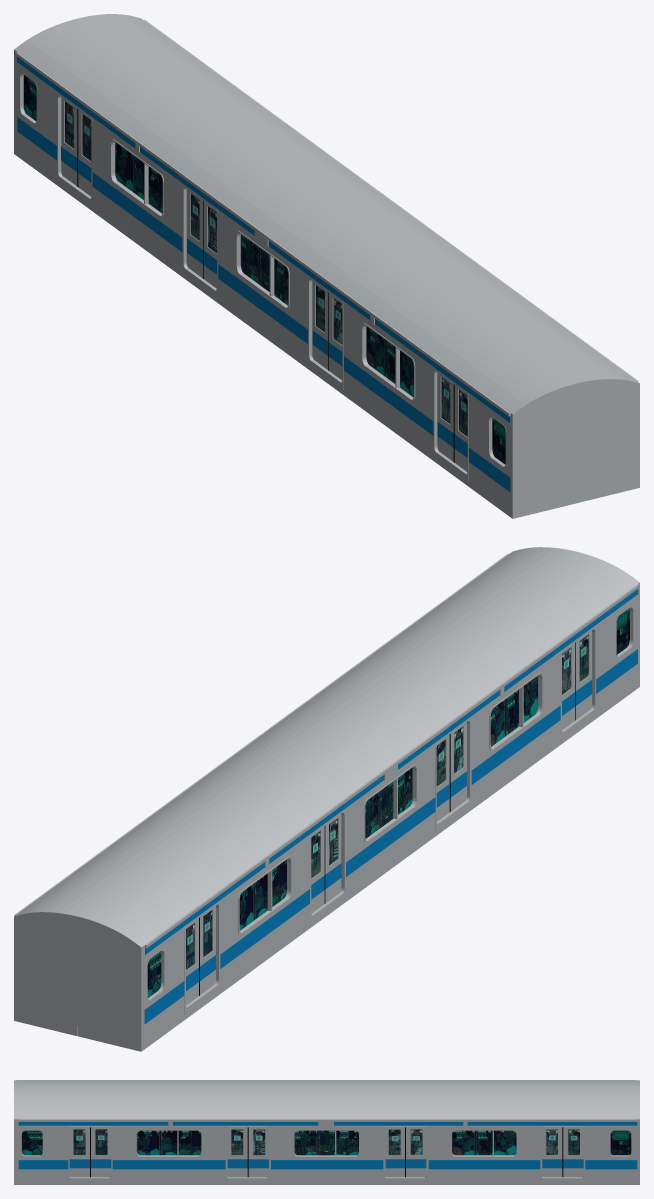
The model's file is trainE.glb.
The picture shows the model from 3 angles, top to bottom: view 1: azimuth 30°, elevation 25°; view 2: azimuth 150°, elevation 25°; view 3: azimuth 270°, elevation 25°; orthographic projection. The views are drawn at different scales.
Visible parts, largest first — view 1: train_bode.002, train_bode.001, 平面.001, ステッカー.005, 上ステッカー.002, 立方体.015, ステッカー.004, ドア.003, ドア.008, ドア.007, ドア.005, 立方体.026 (+5 smaller); view 2: train_bode.002, train_bode.001, 平面.001, ステッカー.005, 上ステッカー.002, 立方体.015, ステッカー.004, ドア.007, ドア.003, ドア.008, ドア.005, 立方体.026 (+5 smaller); view 3: train_bode.001, 平面, train_bode.002, ステッカー, 上ステッカー.001, 立方体.026, ステッカー.003, ドア.002, ドア.006, ドア.004, ドア.001, 立方体.031 (+8 smaller).
Part boxes in pixels (x1,y1,x2,y2): train_bode.002: (14,18,576,518); train_bode.001: (78,14,639,503); 平面.001: (23,75,505,464); ステッカー.005: (17,117,510,491); 上ステッカー.002: (17,57,510,422); 立方体.015: (16,52,510,416); ステッカー.004: (60,146,467,457); ドア.003: (186,189,216,288); ドア.008: (437,372,467,471); ドア.007: (312,281,342,380); ドア.005: (61,97,91,196); 立方体.026: (144,19,637,381); train_bode.002: (77,551,639,1051); train_bode.001: (14,547,575,1036); 平面.001: (147,608,629,997); ステッカー.005: (144,649,637,1023); 上ステッカー.002: (145,589,638,954); 立方体.015: (145,584,639,948); ステッカー.004: (186,680,592,990); ドア.007: (436,722,466,821); ドア.003: (311,814,341,913); ドア.008: (562,630,591,729); ドア.005: (186,906,215,1005); 立方体.026: (14,554,508,915); train_bode.001: (14,1090,639,1184); 平面: (21,1129,631,1155); train_bode.002: (14,1080,639,1090); ステッカー: (18,1160,637,1169); 上ステッカー.001: (18,1122,637,1125); 立方体.026: (18,1119,637,1121); ステッカー.003: (69,1159,583,1168); ドア.002: (384,1127,426,1177); ドア.006: (227,1127,268,1177); ドア.004: (69,1127,111,1177); ドア.001: (542,1127,583,1177); 立方体.031: (18,1125,637,1126).
Size of the model in its own units: 2.05 by 1.8 by 13.6.
Materials: 14 (2 with a texture image).
